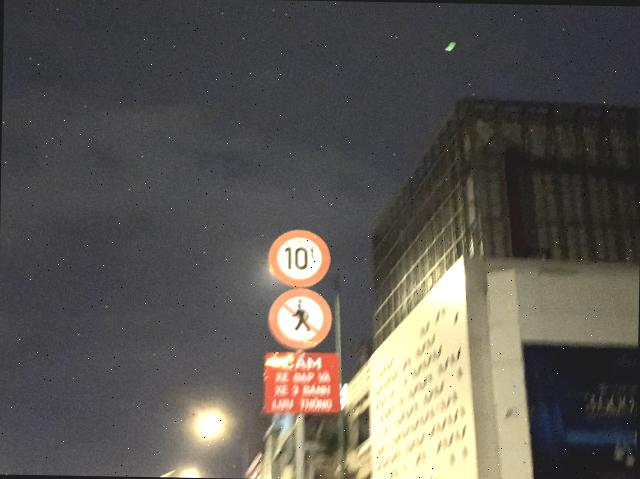cam-nguoi-di-bo: (268, 287, 332, 349)
han-che-trong-luong-xe: (268, 228, 330, 288)
